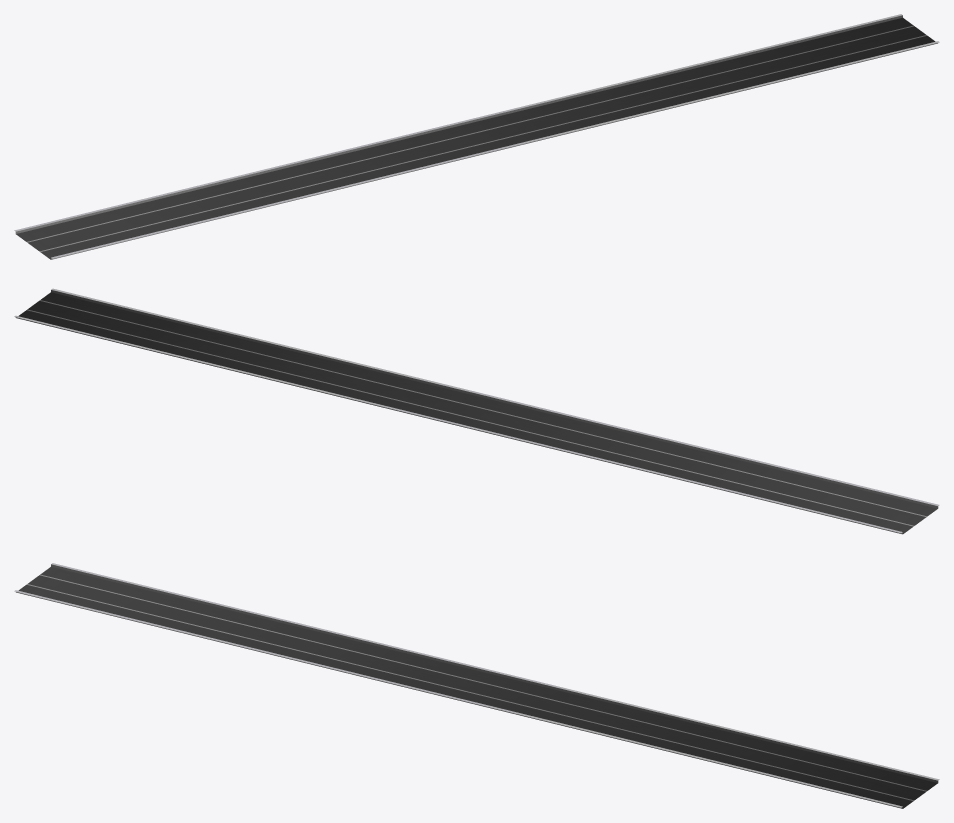
Rendered from rua3x3.glb.
The picture shows the model from 3 angles, top to bottom: view 1: azimuth 30°, elevation 25°; view 2: azimuth 150°, elevation 25°; view 3: azimuth 330°, elevation 25°; orthographic projection.
Parts seen in each view (by area): view 1: rua3x3; view 2: rua3x3; view 3: rua3x3.
Boxes of the visible parts, x1=… form: rua3x3: x1=14, y1=14, x2=939, y2=259; rua3x3: x1=14, y1=288, x2=939, y2=534; rua3x3: x1=14, y1=563, x2=939, y2=808.
Bounding box in the file's own units: 79.34 × 0.205 × 6.
1 material, 1 textured.
